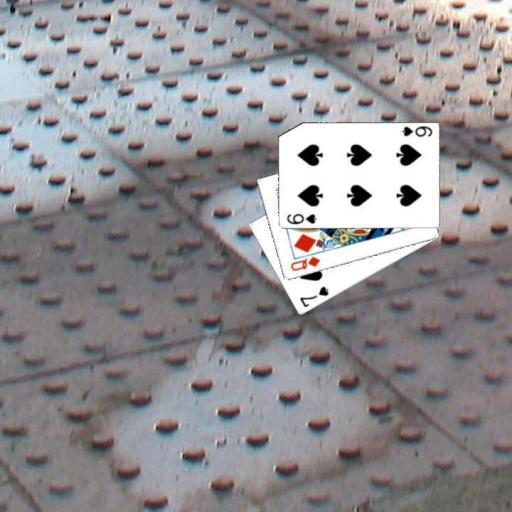card-corner: (296, 283, 330, 309), (288, 254, 322, 273), (284, 211, 318, 226), (399, 124, 433, 138)
